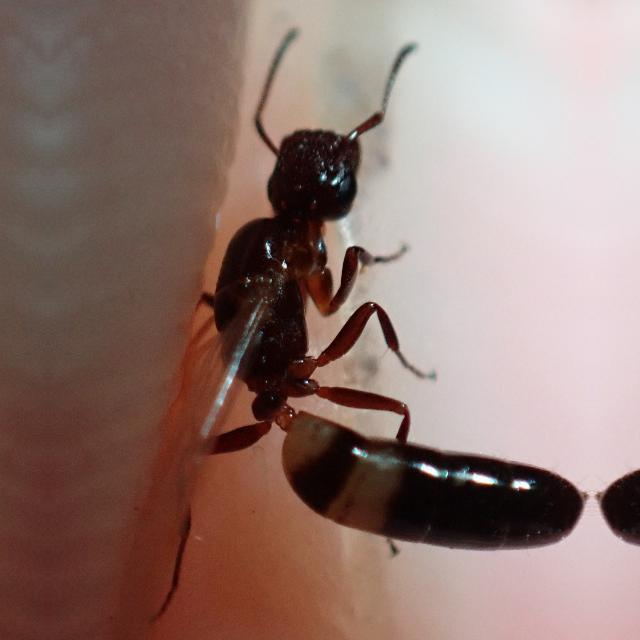Colobopsis: (158, 47, 458, 597)
